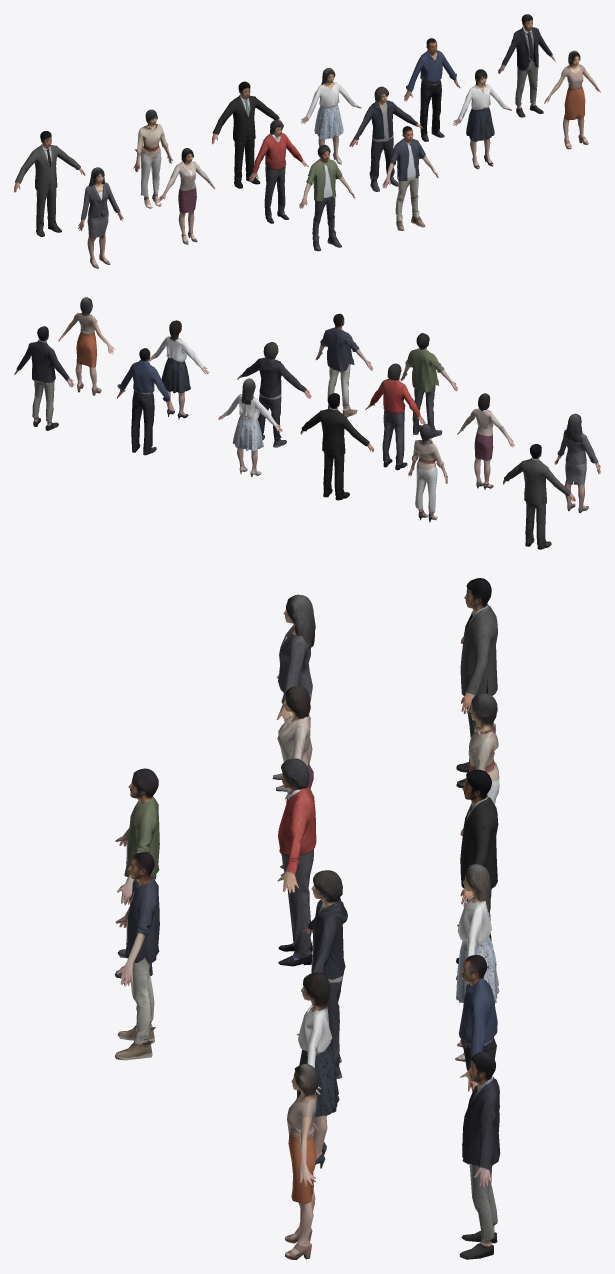
Rendered from Citizen_NPC_Pack_1_Character_Lowpoly_Mobile.glb.
The picture shows the model from 3 angles, top to bottom: view 1: azimuth 30°, elevation 25°; view 2: azimuth 150°, elevation 25°; view 3: azimuth 270°, elevation 25°; orthographic projection. The views are drawn at different scales.
Visible parts, largest first — view 1: Citizen 00amza_004_01MANBODY_0, Citizen 00amza_001_05MANBODY_0, Citizen 00amza_011_14MANBODY_0, Citizen 00amza_003_06MANBODY_0, Citizen 00amza_010_13MANBODY -_0, Citizen 00amza_012_15MANBODY -_0, Citizen 00amza_006_09MANBODY_0, Citizen 00amza_008_111MANBODY_0, Citizen 00amza_002_02GBODY_0, Citizen 00amza_007_10MANBODY -_0, Citizen 00amza_005_07MANBODY_0, Citizen 00amza_014_08MANBODY_0 (+2 smaller); view 2: Citizen 00amza_004_01MANBODY_0, Citizen 00amza_011_14MANBODY_0, Citizen 00amza_001_05MANBODY_0, Citizen 00amza_006_09MANBODY_0, Citizen 00amza_008_111MANBODY_0, Citizen 00amza_003_06MANBODY_0, Citizen 00amza_010_13MANBODY -_0, Citizen 00amza_012_15MANBODY -_0, Citizen 00amza_007_10MANBODY -_0, Citizen 00amza_002_02GBODY_0, Citizen 00amza_014_08MANBODY_0, Citizen 00amza_005_07MANBODY_0 (+3 smaller); view 3: Citizen 00amza_012_15MANBODY -_0, Citizen 00amza_008_111MANBODY_0, Citizen 00amza_006_09MANBODY_0, Citizen 00amza_009_12MANBODY_0, Citizen 00amza_001_05MANBODY_0, Citizen 00amza_003_06MANBODY_0, Citizen 00amza_002_02GBODY_0, Citizen 00amza_004_01MANBODY_0, Citizen 00amza_011_14MANBODY_0, Citizen 00amza_007_10MANBODY -_0, Citizen 00amza_010_13MANBODY -_0, Citizen 00amza_005_07MANBODY_0 (+5 smaller).
Part boxes in pixels (bbox=[...]): Citizen 00amza_004_01MANBODY_0: bbox=[212, 94, 283, 188]; Citizen 00amza_001_05MANBODY_0: bbox=[14, 143, 85, 236]; Citizen 00amza_011_14MANBODY_0: bbox=[404, 49, 460, 141]; Citizen 00amza_003_06MANBODY_0: bbox=[349, 100, 423, 191]; Citizen 00amza_010_13MANBODY -_0: bbox=[299, 159, 355, 251]; Citizen 00amza_012_15MANBODY -_0: bbox=[382, 138, 438, 230]; Citizen 00amza_006_09MANBODY_0: bbox=[249, 133, 308, 223]; Citizen 00amza_008_111MANBODY_0: bbox=[498, 26, 555, 117]; Citizen 00amza_002_02GBODY_0: bbox=[453, 84, 511, 169]; Citizen 00amza_007_10MANBODY -_0: bbox=[301, 82, 361, 164]; Citizen 00amza_005_07MANBODY_0: bbox=[78, 182, 123, 268]; Citizen 00amza_014_08MANBODY_0: bbox=[133, 124, 172, 208]; Citizen 00amza_004_01MANBODY_0: bbox=[300, 407, 374, 500]; Citizen 00amza_011_14MANBODY_0: bbox=[117, 359, 174, 455]; Citizen 00amza_001_05MANBODY_0: bbox=[503, 457, 575, 549]; Citizen 00amza_006_09MANBODY_0: bbox=[365, 379, 425, 470]; Citizen 00amza_008_111MANBODY_0: bbox=[14, 339, 74, 430]; Citizen 00amza_003_06MANBODY_0: bbox=[237, 357, 311, 447]; Citizen 00amza_010_13MANBODY -_0: bbox=[400, 348, 457, 438]; Citizen 00amza_012_15MANBODY -_0: bbox=[315, 327, 372, 417]; Citizen 00amza_007_10MANBODY -_0: bbox=[218, 394, 282, 476]; Citizen 00amza_002_02GBODY_0: bbox=[148, 336, 209, 419]; Citizen 00amza_014_08MANBODY_0: bbox=[408, 439, 447, 522]; Citizen 00amza_005_07MANBODY_0: bbox=[554, 430, 600, 513]; Citizen 00amza_012_15MANBODY -_0: bbox=[115, 876, 159, 1060]; Citizen 00amza_008_111MANBODY_0: bbox=[459, 1076, 500, 1259]; Citizen 00amza_006_09MANBODY_0: bbox=[277, 786, 316, 966]; Citizen 00amza_009_12MANBODY_0: bbox=[285, 1092, 318, 1259]; Citizen 00amza_001_05MANBODY_0: bbox=[456, 603, 497, 787]; Citizen 00amza_003_06MANBODY_0: bbox=[302, 898, 347, 1078]; Citizen 00amza_002_02GBODY_0: bbox=[296, 1005, 339, 1168]; Citizen 00amza_004_01MANBODY_0: bbox=[456, 795, 498, 979]; Citizen 00amza_011_14MANBODY_0: bbox=[459, 977, 497, 1164]; Citizen 00amza_007_10MANBODY -_0: bbox=[455, 895, 499, 1061]; Citizen 00amza_010_13MANBODY -_0: bbox=[115, 796, 159, 978]; Citizen 00amza_005_07MANBODY_0: bbox=[272, 625, 312, 791].
Bounding box in the file's own units: 10.94 × 1.94 × 3.34.
28 materials, 28 textured.
